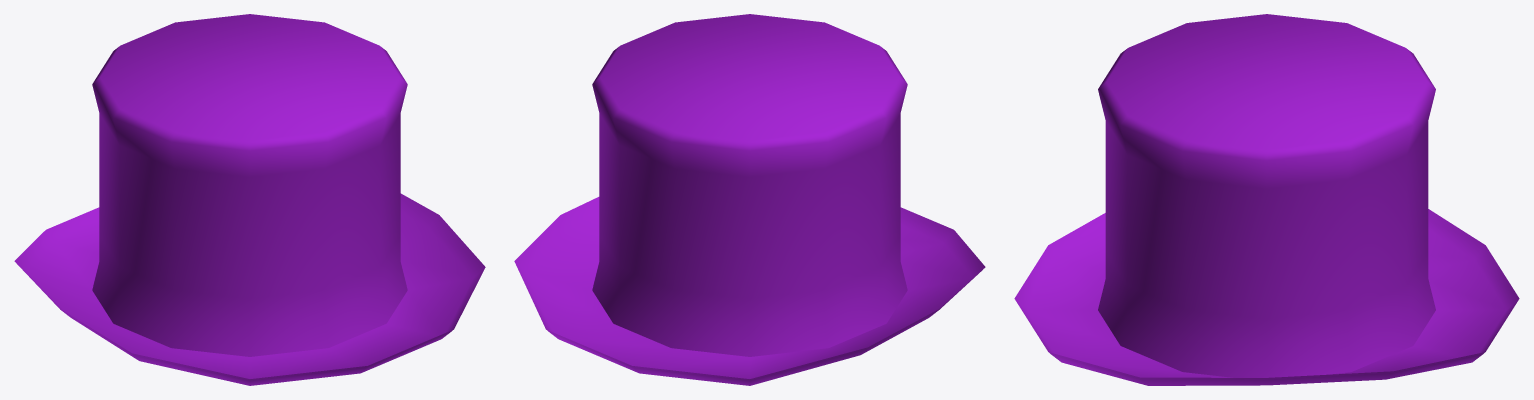
Rendered from shop cont hat 1 lod0.FBX.
3 renders of one model, left to right at view 1: azimuth 30°, elevation 25°; view 2: azimuth 150°, elevation 25°; view 3: azimuth 270°, elevation 25°, orthographic. The views are drawn at different scales.
Visible parts, largest first — view 1: Cylinder288; view 2: Cylinder288; view 3: Cylinder288.
Part boxes in pixels (left/top/right/bottom): Cylinder288: left=14, top=14, right=485, bottom=385; Cylinder288: left=514, top=14, right=985, bottom=385; Cylinder288: left=1014, top=14, right=1519, bottom=385.
Size of the model in its own units: 0.4433 by 0.2394 by 0.4753.
